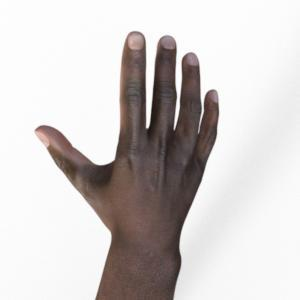paper: (35, 32, 218, 300)
